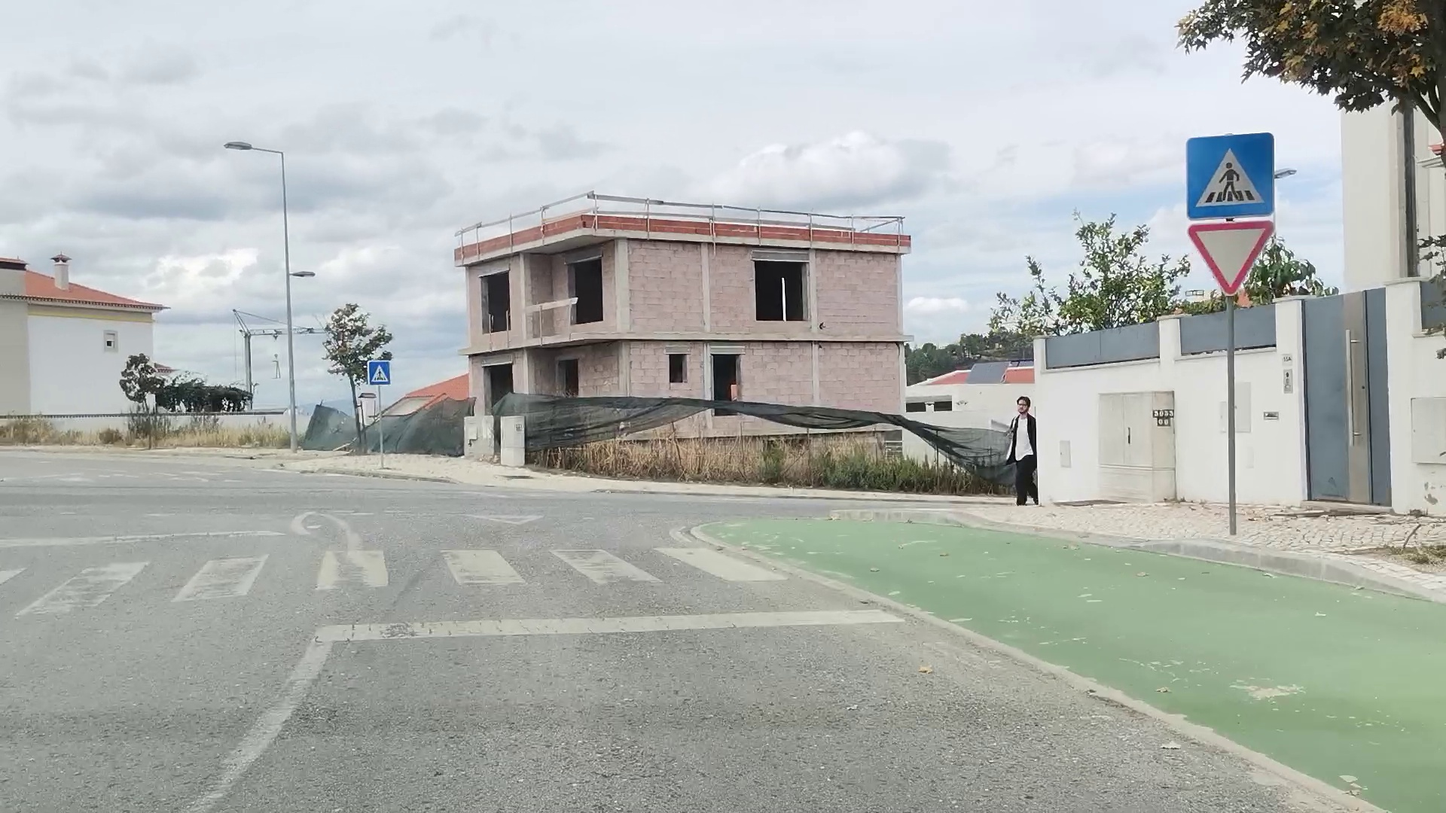Stairs: (0, 546, 793, 617)
